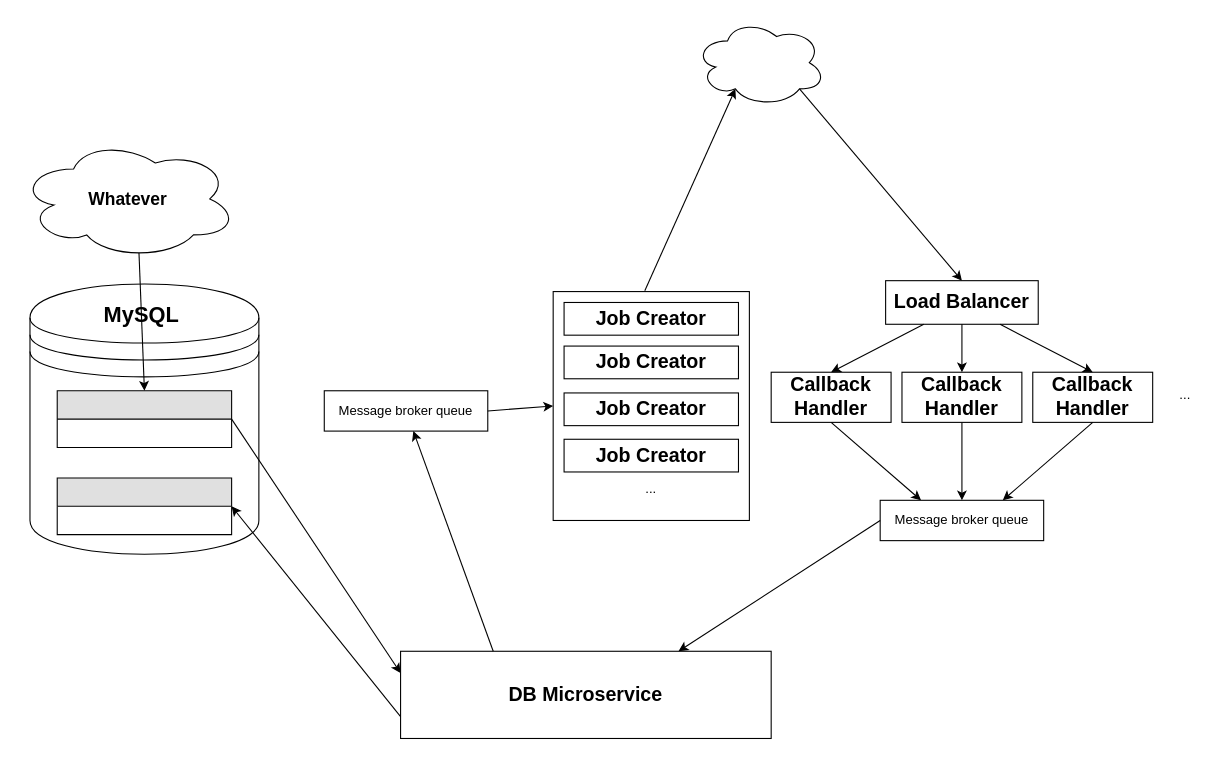
Image size: 1226x758. Some labels were removed from this diagram. Each missing label, with the centre of its shape:
job_results: [144,506]
jobs: [144,418]
RTC: [760,62]
